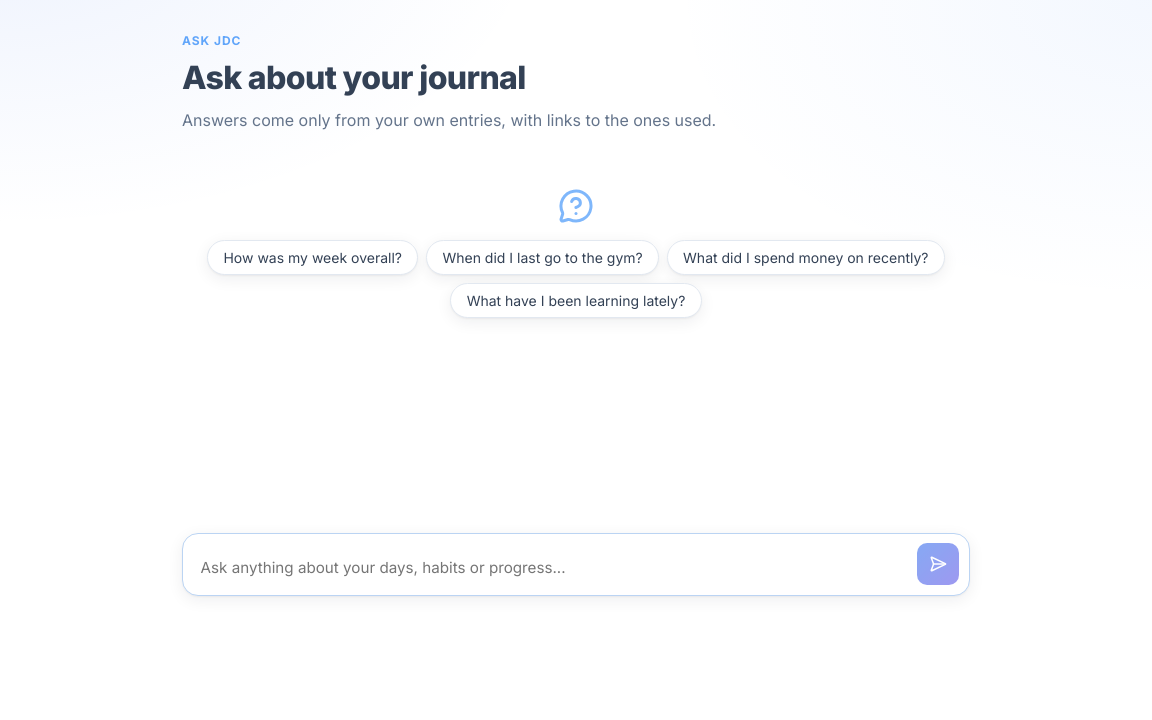
Test: Ask JDC › answers with numbered citations linked to source entries
The width and height of the screenshot is (1152, 720).
Type "When did I go to the gym?" into the text box named "Your question".
click(551, 568); type("When did I go to the gym?")  # box [193,550,909,585]
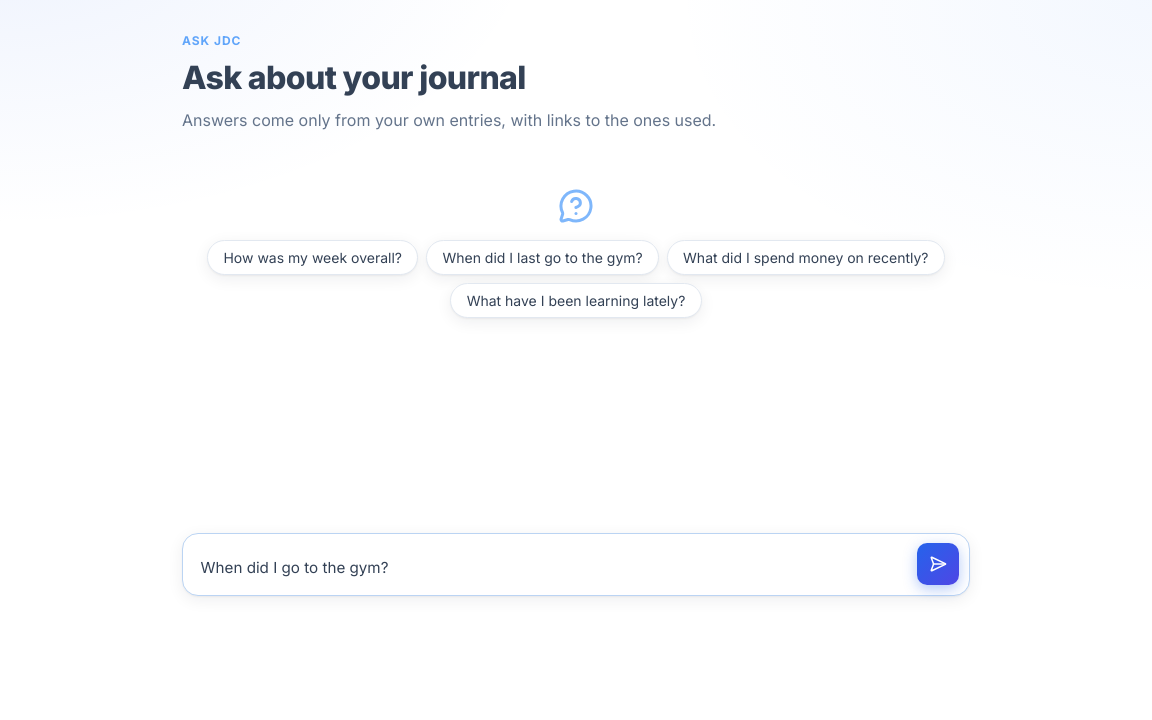
Click the button named "Ask".
click(938, 564)  # box [917,543,959,585]
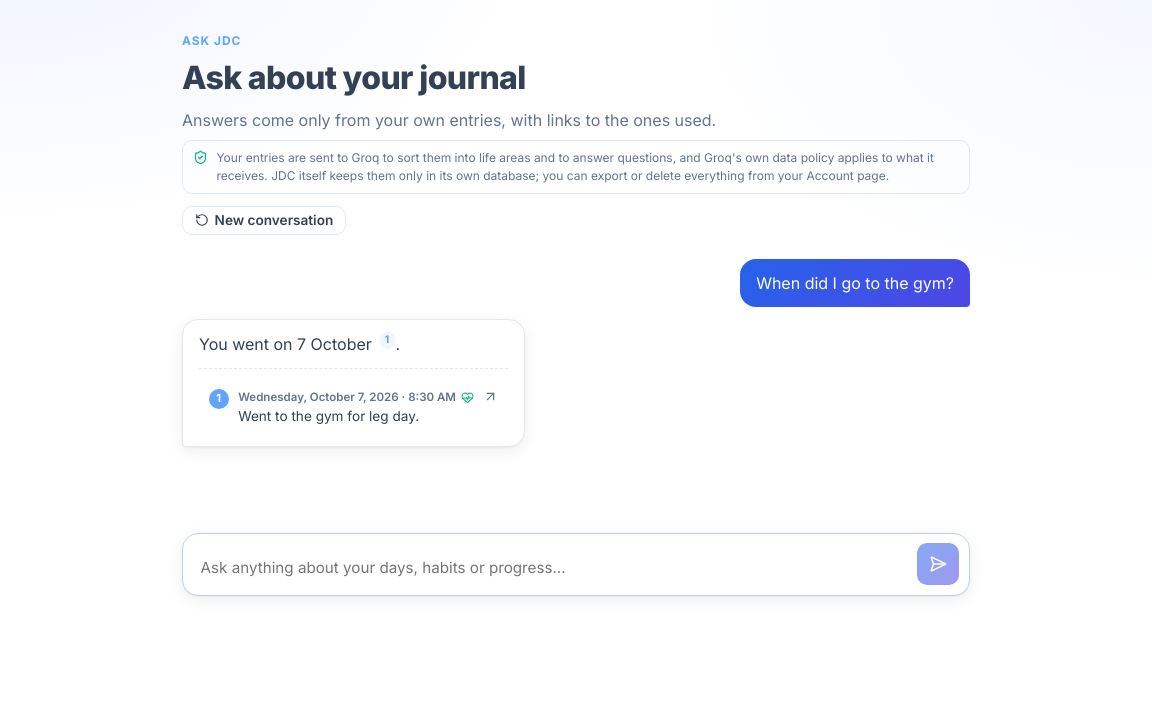
Check: the text "You went on 7 October 1 ." is shown, box [199,332,400,354]
Check: the text titled "Source 1" next to "You went on 7 October" is shown, box [385,334,389,346]
Check: the link shows "Went to the gym for leg day.", box [199,381,508,434]
